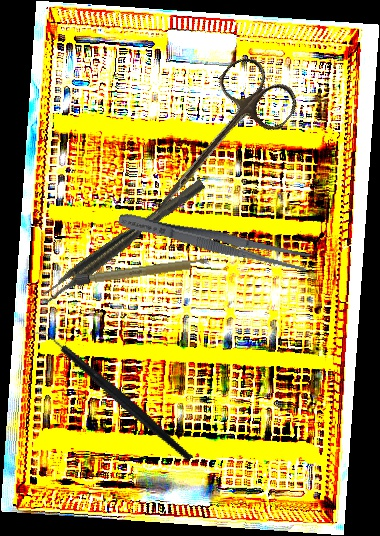Chopper: (28, 292, 194, 499)
Dressing Forceps: (116, 207, 311, 275)
Iris Scissors: (124, 49, 305, 245)
Scalpel Handle: (75, 256, 211, 287)
Tissue Forceps: (38, 178, 210, 306)
